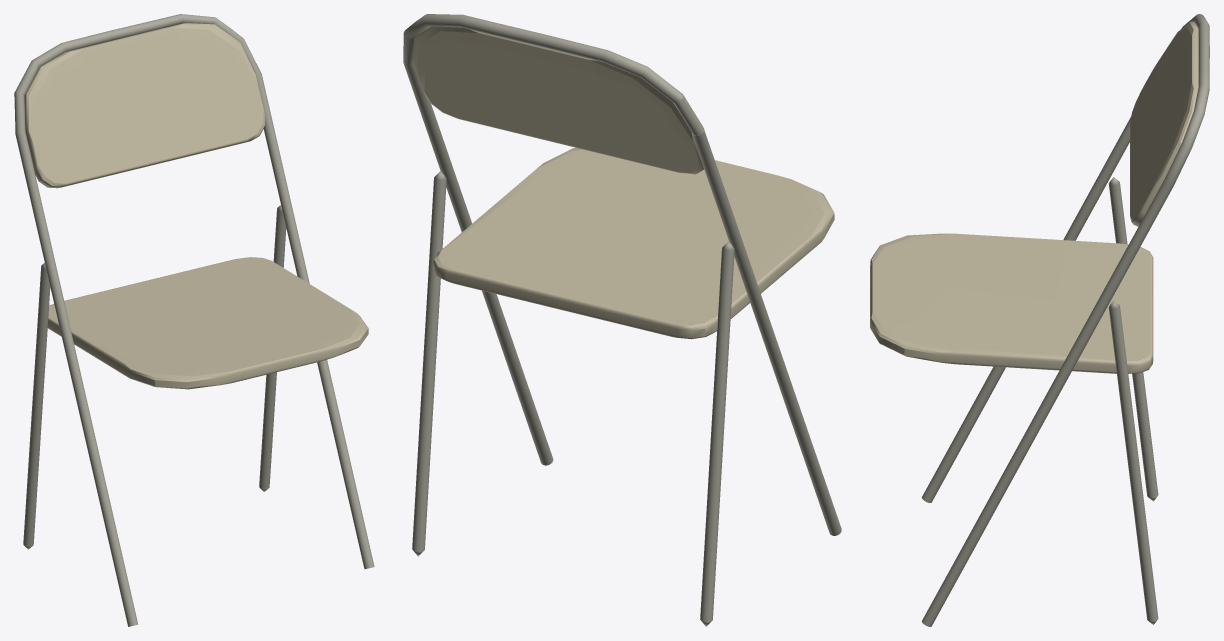
Rendered from M_1_Chair.fbx.
3 renders of one model, left to right at view 1: azimuth 30°, elevation 25°; view 2: azimuth 150°, elevation 25°; view 3: azimuth 270°, elevation 25°, orthographic. The views are drawn at different scales.
Visible parts, largest first — view 1: pCube3; view 2: pCube3; view 3: pCube3.
Boxes of the visible parts, bbox=[...] form: pCube3: bbox=[14, 14, 374, 626]; pCube3: bbox=[403, 14, 841, 626]; pCube3: bbox=[870, 14, 1209, 626].
Bounding box in the file's own units: 10.74 × 19.9 × 11.98.
